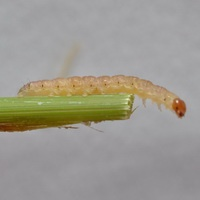insect: (18, 75, 185, 117)
